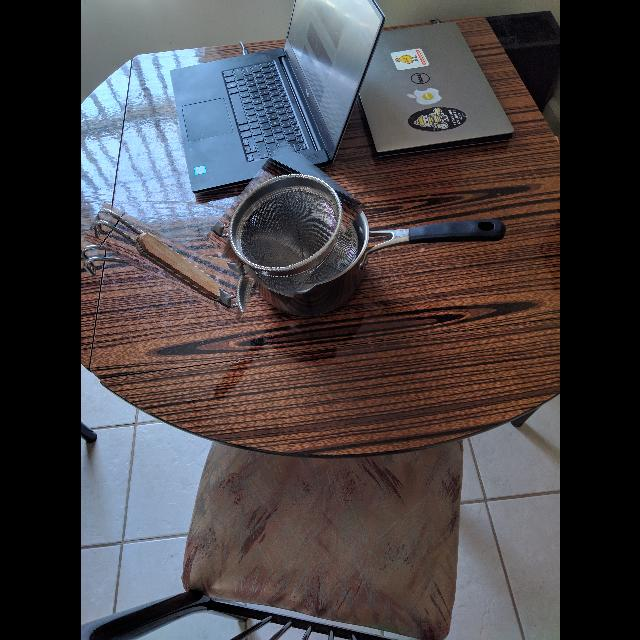Handle: (86, 201, 239, 321)
Strainer: (222, 170, 350, 273)
